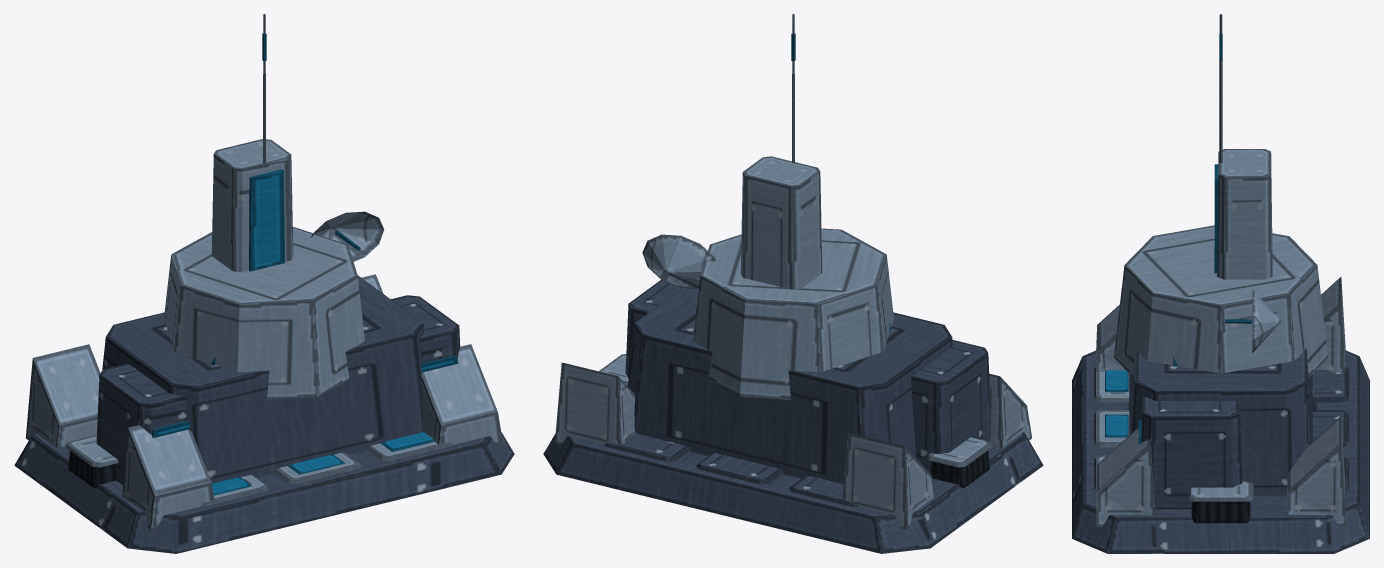
The model's file is building-field_command.fbx.
3 views of the same model, side by side, from view 1: azimuth 30°, elevation 25°; view 2: azimuth 150°, elevation 25°; view 3: azimuth 270°, elevation 25° (orthographic).
Parts seen in each view (by area): view 1: building-field_command; view 2: building-field_command; view 3: building-field_command.
Part boxes in pixels (box(x1,y1,x2,y2)): building-field_command: box(14, 14, 514, 553); building-field_command: box(543, 14, 1043, 553); building-field_command: box(1072, 14, 1369, 553).
Size of the model in its own units: 2184 by 2400 by 1456.
1 material, 1 textured.
